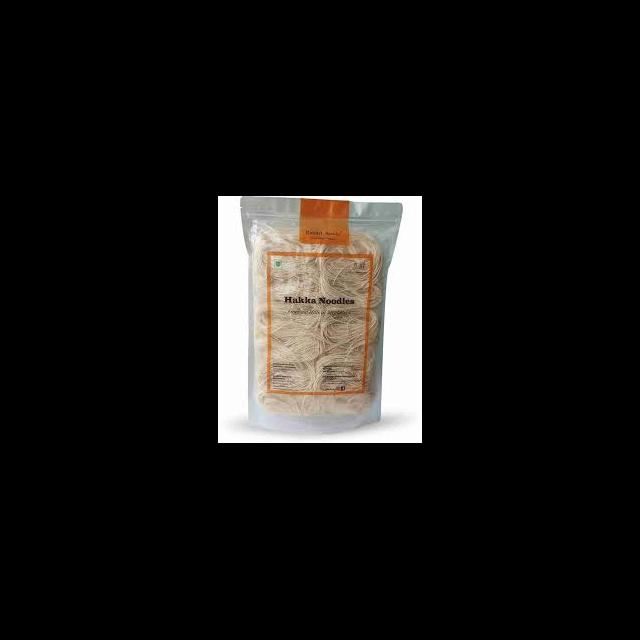noodles: (234, 199, 403, 439)
